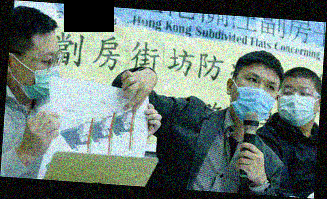with_mask: (12, 46, 63, 102), (230, 70, 280, 127), (276, 82, 321, 129)
